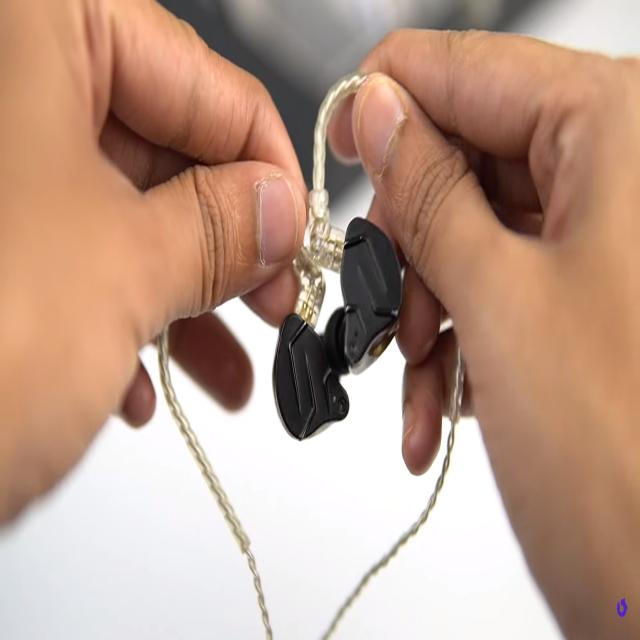Earphone: (157, 67, 465, 640)
